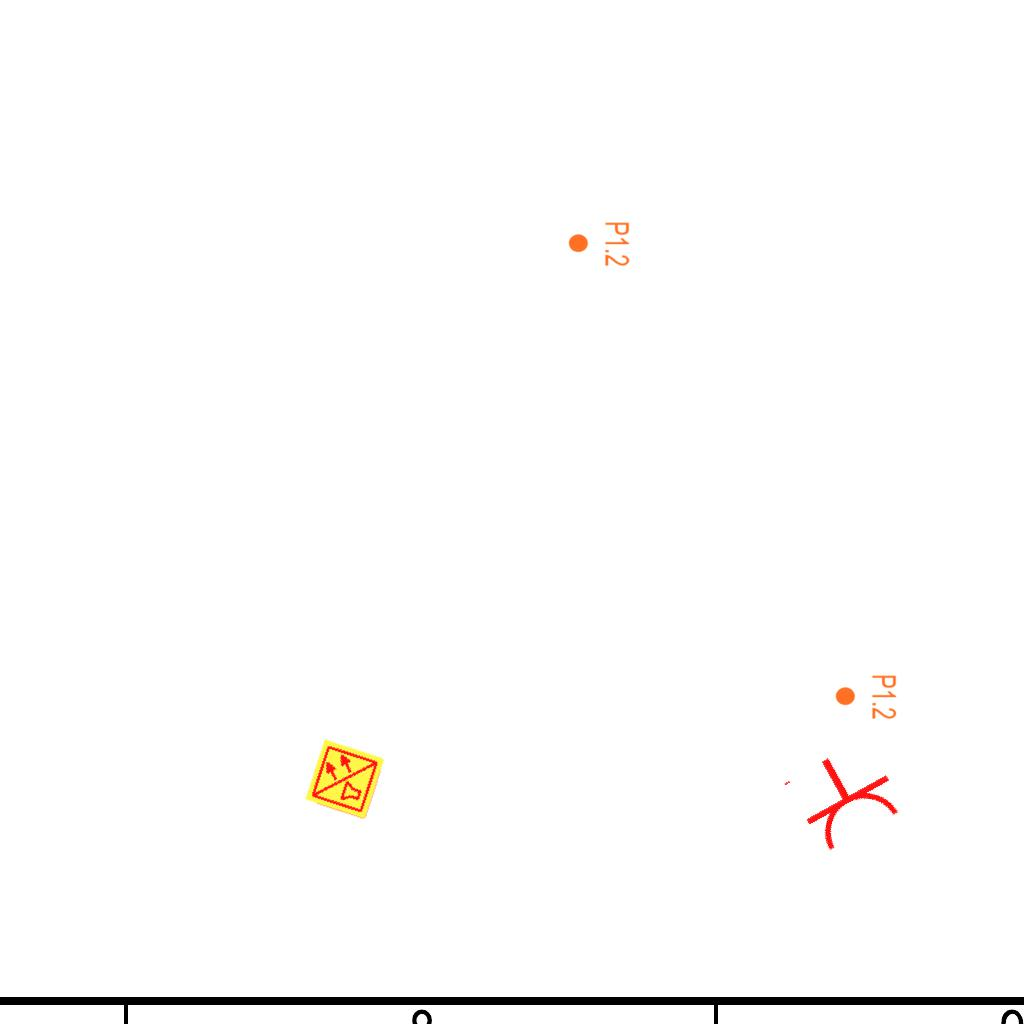Downlight_LED_Einbauleuchten_Flur: (834, 674, 898, 720), (567, 221, 631, 267)
OKW_Multisensormelder_(Kombination_optischer_Rauch-Kahlenmonoxid_Waerme-Melder): (303, 737, 387, 821)
Schukosteckdose_einfach: (778, 734, 909, 860)
